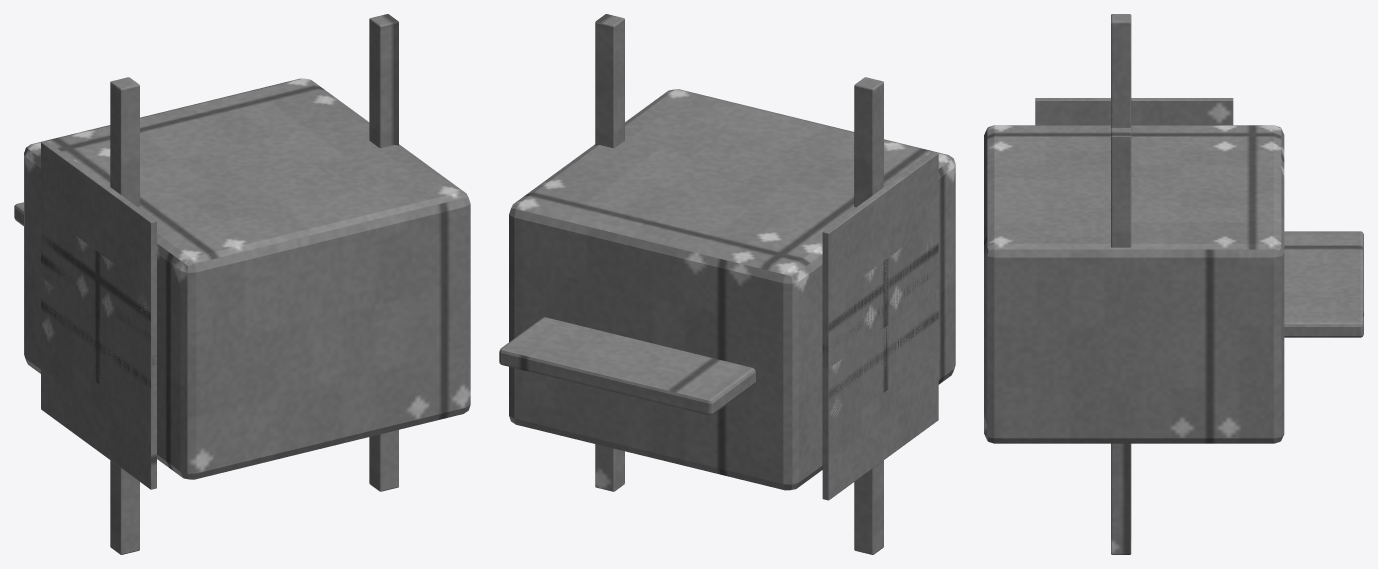
File: hull_4.glb
3 views of the same model, side by side, from view 1: azimuth 30°, elevation 25°; view 2: azimuth 150°, elevation 25°; view 3: azimuth 270°, elevation 25° (orthographic). The views are drawn at different scales.
Parts seen in each view (by area): view 1: hull_4; view 2: hull_4; view 3: hull_4.
Boxes of the visible parts, left/top/right/bottom form: hull_4: left=14, top=14, right=470, bottom=554; hull_4: left=499, top=14, right=955, bottom=554; hull_4: left=984, top=14, right=1363, bottom=554.
Bounding box in the file's own units: 0.922 × 1.39 × 1.14.
1 material, 1 textured.
